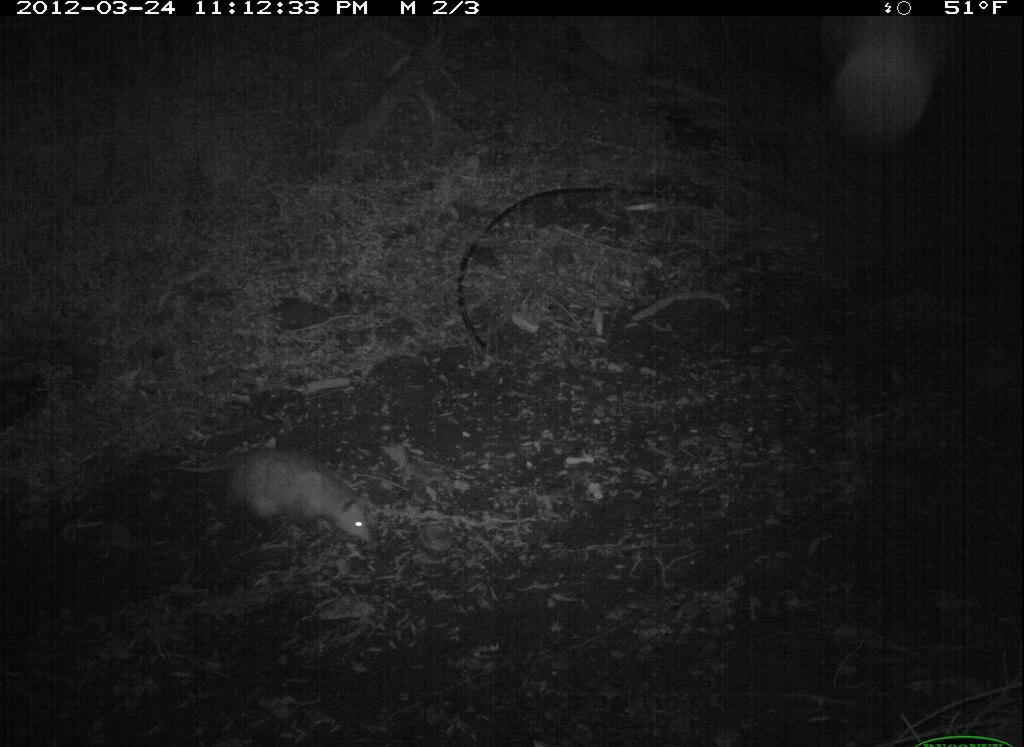opossum: (166, 440, 406, 553)
